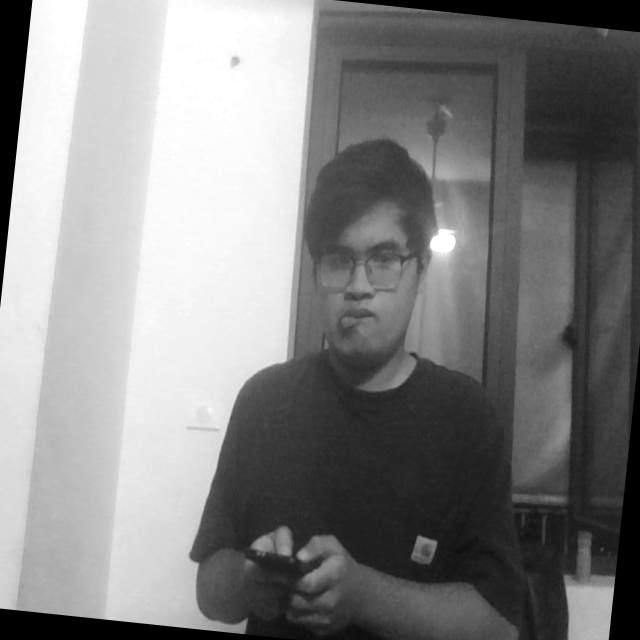phone: (236, 524, 330, 602)
